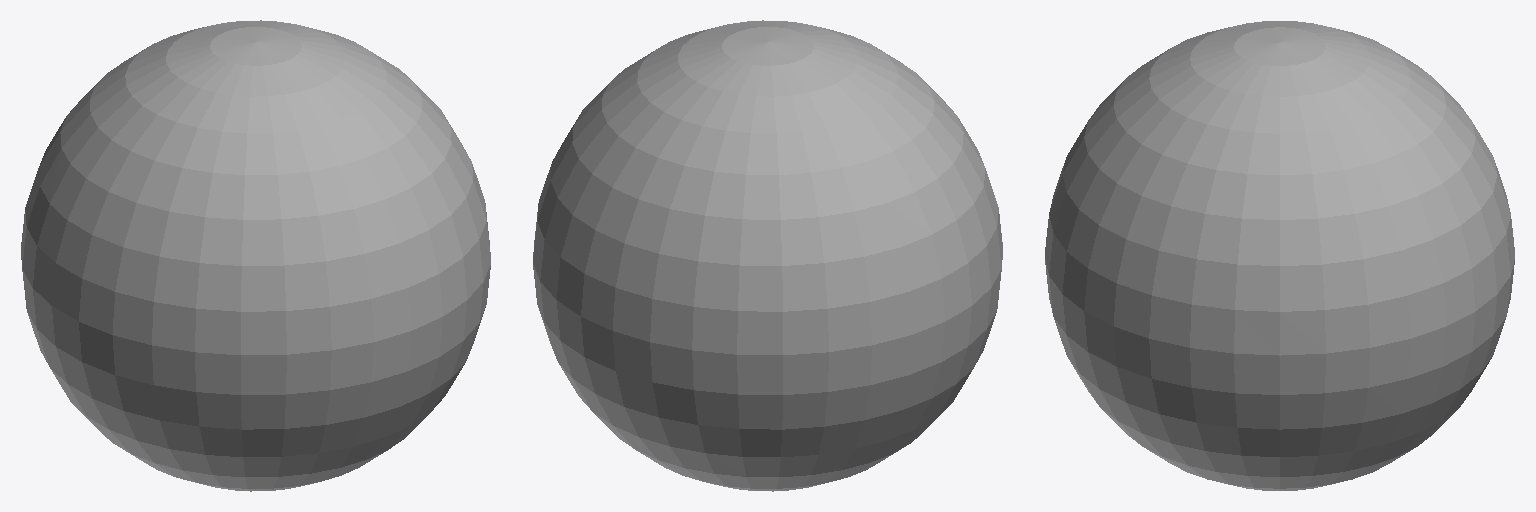
robot.urdf — universal_robot:
<?xml version="1.0"?>
<!--FOR GRIPPER, THERE IS NO LINK INERTIA DEFINED HERE-->
<robot name="universal_robot" xmlns:xacro="http://ros.org/wiki/xacro">

  <link name="base_link">
    <visual>
      <geometry>
        <mesh filename="../meshes/ur5/visual/base.obj" />
      </geometry>
      <material name="LightGrey">
        <color rgba="0.7 0.7 0.7 1.0" />
      </material>
    </visual>
    <collision>
      <geometry>
        <mesh filename="../meshes/ur5/collision/base.stl" />
      </geometry>
    </collision>
    <inertial>
      <mass value="4.0" />
      <origin rpy="0 0 0" xyz="0.0 0.0 0.0" />
      <inertia ixx="0.00443333156" ixy="0.0" ixz="0.0" iyy="0.00443333156" iyz="0.0" izz="0.0072" />
    </inertial>
  </link>

  <joint name="shoulder_pan_joint" type="revolute">
    <parent link="base_link" />
    <child link="shoulder_link" />
    <origin rpy="0.0 0.0 0.0" xyz="0.0 0.0 0.089159" />
    <axis xyz="0 0 1" />
    <limit effort="150.0" lower="-6.28318530718" upper="6.28318530718" velocity="3.15" />
    <dynamics damping="0.0" friction="0.0" />
  </joint>
  <link name="shoulder_link">
    <visual>
      <geometry>
        <mesh filename="../meshes/ur5/visual/shoulder.obj" />
      </geometry>
      <material name="LightGrey">
        <color rgba="0.7 0.7 0.7 1.0" />
      </material>
    </visual>
    <collision>
      <geometry>
        <mesh filename="../meshes/ur5/collision/shoulder.stl" />
      </geometry>
    </collision>
    <inertial>
      <mass value="3.7" />
      <origin rpy="0 0 0" xyz="0.0 0.0 0.0" />
      <inertia ixx="0.010267495893" ixy="0.0" ixz="0.0" iyy="0.010267495893" iyz="0.0" izz="0.00666" />
    </inertial>
  </link>
  <joint name="shoulder_lift_joint" type="revolute">
    <parent link="shoulder_link" />
    <child link="upper_arm_link" />
    <origin rpy="0.0 1.57079632679 0.0" xyz="0.0 0.13585 0.0" />
    <axis xyz="0 1 0" />
    <limit effort="150.0" lower="-6.28318530718" upper="6.28318530718" velocity="3.15" />
    <dynamics damping="0.0" friction="0.0" />
  </joint>
  <link name="upper_arm_link">
    <visual>
      <geometry>
        <mesh filename="../meshes/ur5/visual/upperarm.obj" />
      </geometry>
      <material name="LightGrey">
        <color rgba="0.7 0.7 0.7 1.0" />
      </material>
    </visual>
    <collision>
      <geometry>
        <mesh filename="../meshes/ur5/collision/upperarm.stl" />
      </geometry>
    </collision>
    <inertial>
      <mass value="8.393" />
      <origin rpy="0 0 0" xyz="0.0 0.0 0.28" />
      <inertia ixx="0.22689067591" ixy="0.0" ixz="0.0" iyy="0.22689067591" iyz="0.0" izz="0.0151074" />
    </inertial>
  </link>
  <joint name="elbow_joint" type="revolute">
    <parent link="upper_arm_link" />
    <child link="forearm_link" />
    <origin rpy="0.0 0.0 0.0" xyz="0.0 -0.1197 0.425" />
    <axis xyz="0 1 0" />
    <limit effort="150.0" lower="-3.14159265359" upper="3.14159265359" velocity="3.15" />
    <dynamics damping="0.0" friction="0.0" />
  </joint>
  <link name="forearm_link">
    <visual>
      <geometry>
        <mesh filename="../meshes/ur5/visual/forearm.obj" />
      </geometry>
      <material name="LightGrey">
        <color rgba="0.7 0.7 0.7 1.0" />
      </material>
    </visual>
    <collision>
      <geometry>
        <mesh filename="../meshes/ur5/collision/forearm.stl" />
      </geometry>
    </collision>
    <inertial>
      <mass value="2.275" />
      <origin rpy="0 0 0" xyz="0.0 0.0 0.25" />
      <inertia ixx="0.049443313556" ixy="0.0" ixz="0.0" iyy="0.049443313556" iyz="0.0"
        izz="0.004095" />
    </inertial>
  </link>
  <joint name="wrist_1_joint" type="revolute">
    <parent link="forearm_link" />
    <child link="wrist_1_link" />
    <origin rpy="0.0 1.57079632679 0.0" xyz="0.0 0.0 0.39225" />
    <axis xyz="0 1 0" />
    <limit effort="28.0" lower="-6.28318530718" upper="6.28318530718" velocity="3.2" />
    <dynamics damping="0.0" friction="0.0" />
  </joint>
  <link name="wrist_1_link">
    <visual>
      <geometry>
        <mesh filename="../meshes/ur5/visual/wrist1.obj" />
      </geometry>
      <material name="LightGrey">
        <color rgba="0.7 0.7 0.7 1.0" />
      </material>
    </visual>
    <collision>
      <geometry>
        <mesh filename="../meshes/ur5/collision/wrist1.stl" />
      </geometry>
    </collision>
    <inertial>
      <mass value="1.219" />
      <origin rpy="0 0 0" xyz="0.0 0.0 0.0" />
      <inertia ixx="0.111172755531" ixy="0.0" ixz="0.0" iyy="0.111172755531" iyz="0.0" izz="0.21942" />
    </inertial>
  </link>
  <joint name="wrist_2_joint" type="revolute">
    <parent link="wrist_1_link" />
    <child link="wrist_2_link" />
    <origin rpy="0.0 0.0 0.0" xyz="0.0 0.093 0.0" />
    <axis xyz="0 0 1" />
    <limit effort="28.0" lower="-6.28318530718" upper="6.28318530718" velocity="3.2" />
    <dynamics damping="0.0" friction="0.0" />
  </joint>
  <link name="wrist_2_link">
    <visual>
      <geometry>
        <mesh filename="../meshes/ur5/visual/wrist2.obj" />
      </geometry>
      <material name="LightGrey">
        <color rgba="0.7 0.7 0.7 1.0" />
      </material>
    </visual>
    <collision>
      <geometry>
        <mesh filename="../meshes/ur5/collision/wrist2.stl" />
      </geometry>
    </collision>
    <inertial>
      <mass value="1.219" />
      <origin rpy="0 0 0" xyz="0.0 0.0 0.0" />
      <inertia ixx="0.111172755531" ixy="0.0" ixz="0.0" iyy="0.111172755531" iyz="0.0" izz="0.21942" />
    </inertial>
  </link>
  <joint name="wrist_3_joint" type="revolute">
    <parent link="wrist_2_link" />
    <child link="wrist_3_link" />
    <origin rpy="0.0 0.0 0.0" xyz="0.0 0.0 0.09465" />
    <axis xyz="0 1 0" />
    <limit effort="28.0" lower="-6.28318530718" upper="6.28318530718" velocity="3.2" />
    <dynamics damping="0.0" friction="0.0" />
  </joint>
  <link name="wrist_3_link">
    <visual>
      <geometry>
        <mesh filename="../meshes/ur5/visual/wrist3.obj" />
      </geometry>
      <material name="LightGrey">
        <color rgba="0.7 0.7 0.7 1.0" />
      </material>
    </visual>
    <collision>
      <geometry>
        <mesh filename="../meshes/ur5/collision/wrist3.stl" />
      </geometry>
    </collision>
    <inertial>
      <mass value="0.1879" />
      <origin rpy="0 0 0" xyz="0.0 0.0 0.0" />
      <inertia ixx="0.0171364731454" ixy="0.0" ixz="0.0" iyy="0.0171364731454" iyz="0.0"
        izz="0.033822" />
    </inertial>
  </link>
  <joint name="ee_fixed_joint" type="fixed">
    <parent link="wrist_3_link" />
    <child link="ee_link" />
    <origin rpy="0.0 0.0 1.57079632679" xyz="0.0 0.0823 0.0" />
  </joint>
  <link name="ee_link">
    <visual>
      <origin rpy="0 0 0" xyz="0 0 0" />
      <geometry>
        <sphere radius="0.001" />
      </geometry>
      <material name="Red" />
    </visual>
    <collision>
      <geometry>
        <sphere radius="0.001" />
      </geometry>
      <origin rpy="0 0 0" xyz="0.0 0 0" />
    </collision>
    <inertial>
      <mass value="0.0" />
      <origin rpy="-3.14 0.0 1.57" xyz="0.0 0.0 0.0" />
      <inertia ixx="0.001" ixy="0.0" ixz="0.0" iyy="0.001" iyz="0.0" izz="0.001" />
    </inertial>
  </link>
  <!-- <joint name="ee_joint" type="fixed">
    <parent link="wrist_3_link" />
    <child link="ee_link" />
    <origin rpy="1.57 3.14 0.0" xyz="0.0 0.0823 0.0" />
  </joint> -->
</robot>

--- Render facts (derived) ---
Views: 3 orthographic renders of the robot side by side, from view 1: azimuth 30°, elevation 25°; view 2: azimuth 150°, elevation 25°; view 3: azimuth 270°, elevation 25°.
Robot: universal_robot — 8 links, 7 joints (6 revolute, 1 fixed); root link base_link; default pose: every joint at zero.
Links seen in each view (by area): view 1: ee_link; view 2: ee_link; view 3: ee_link.
Link boxes in pixels (left/top/right/bottom): ee_link: left=21, top=20, right=490, bottom=491; ee_link: left=533, top=20, right=1002, bottom=491; ee_link: left=1045, top=21, right=1514, bottom=490.
Size in the robot's own frame: 0.002 by 0.002 by 0.002 metres.
Meshes: 7 distinct files referenced, 0 mesh visuals loaded (none loaded); not drawn: 7 (reference not matched to a file when rendering).